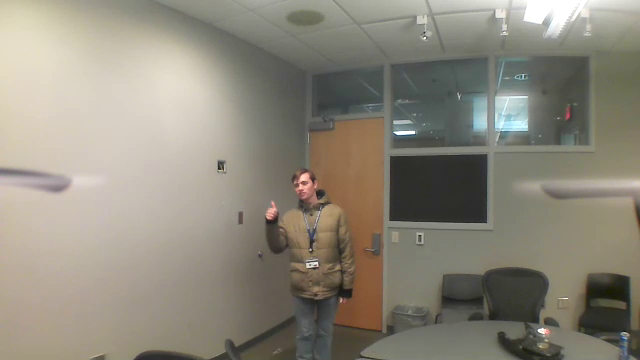up: (260, 195, 279, 222)
